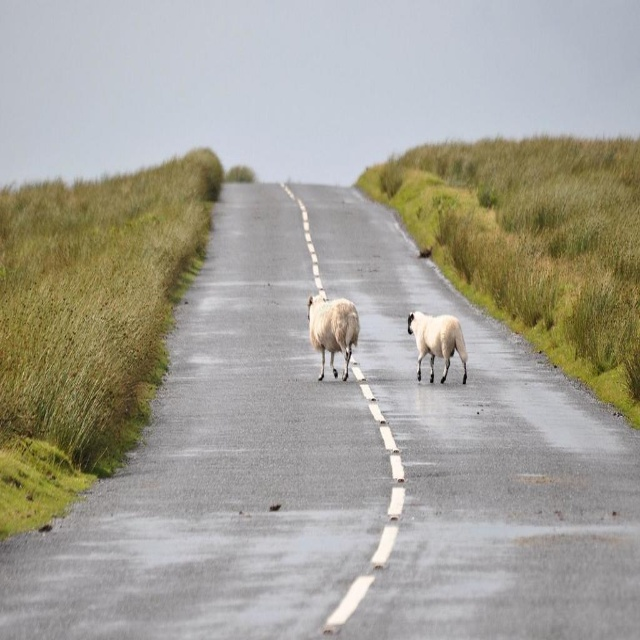Sheep: (406, 309, 468, 386), (308, 295, 360, 381)
